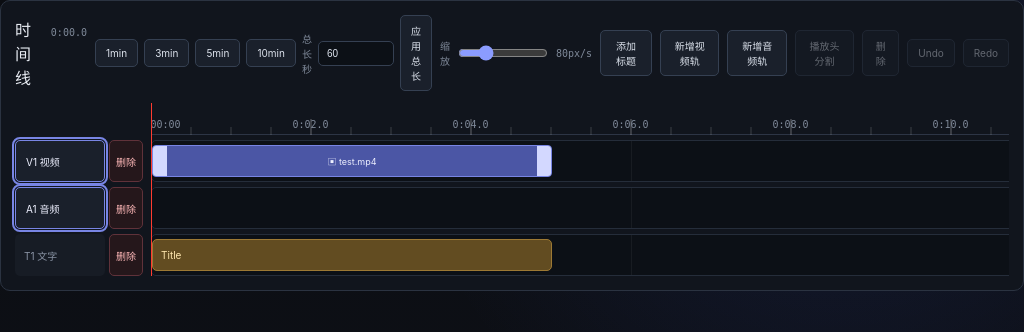
Test case: editor interactions › rejects dragging media clips to a different track kind
The width and height of the screenshot is (1024, 332).
Press the mouse on the button with aria-label "视频片段 test.mp4" at (352, 161), box [152,145,552,177]
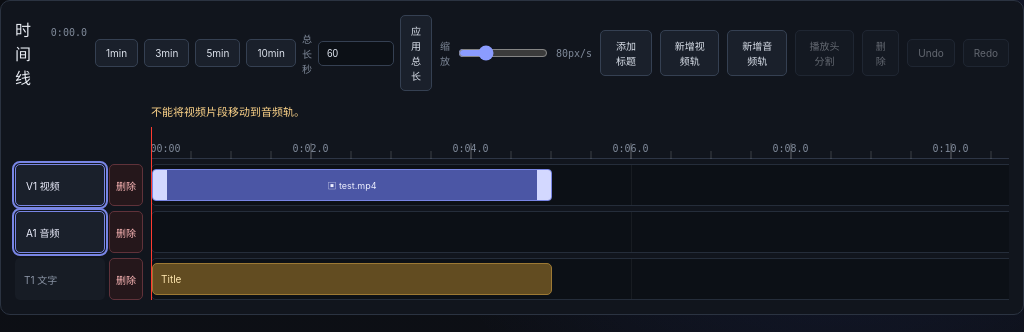
Expected: the message shows "不能将视频片段移动到音频轨", [151,105,305,119]
